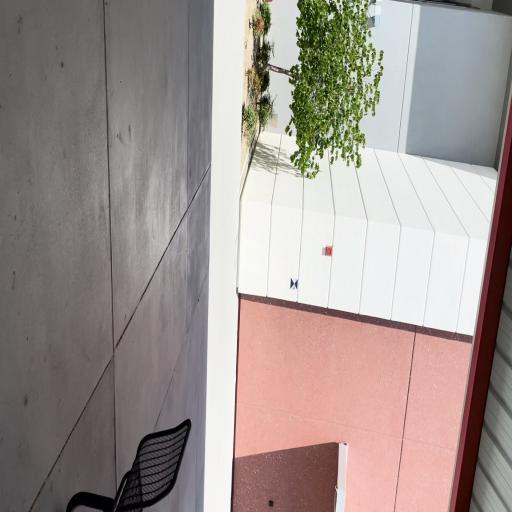target9: (290, 278, 298, 291)
